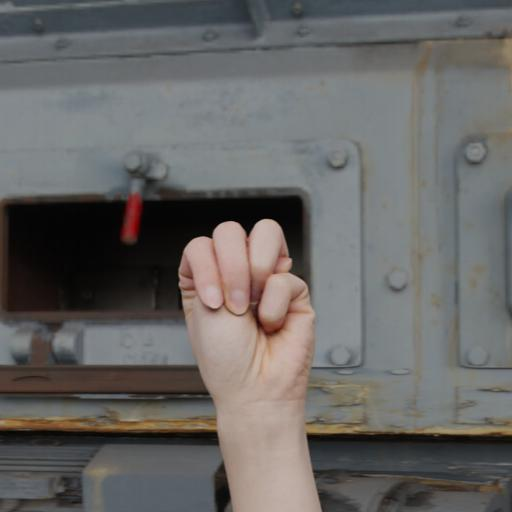M: (163, 211, 335, 494)
